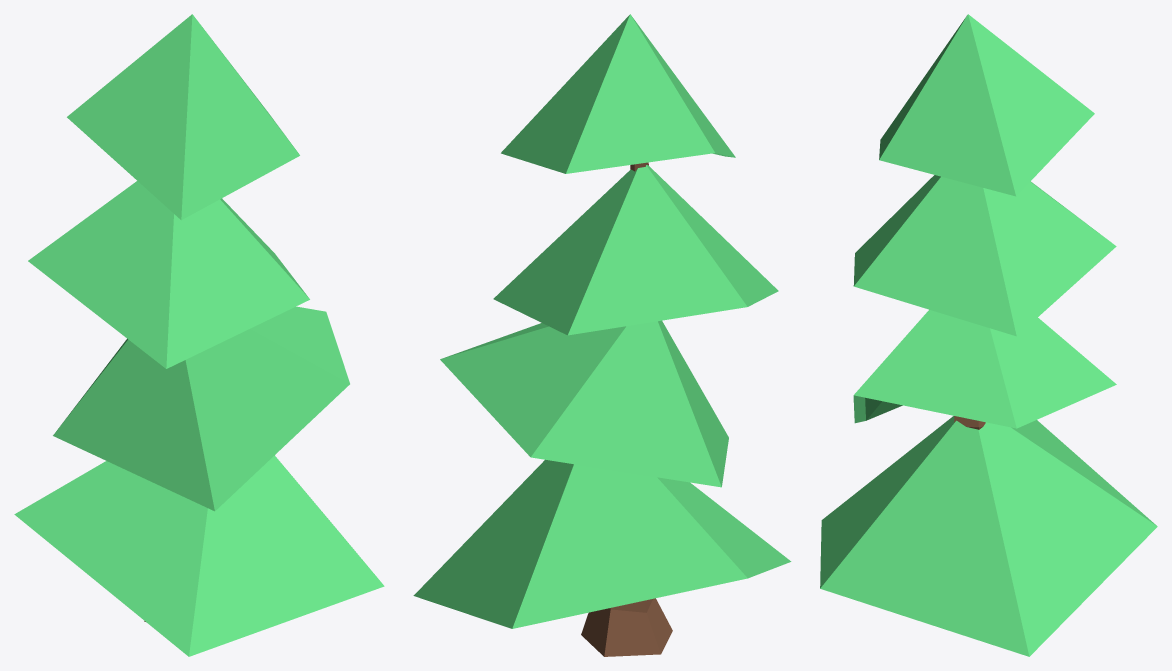
Rendered from fir_tree.fbx.
3 renders of one model, left to right at view 1: azimuth 30°, elevation 25°; view 2: azimuth 150°, elevation 25°; view 3: azimuth 270°, elevation 25°, orthographic. The views are drawn at different scales.
Visible parts, largest first — view 1: fir; view 2: fir; view 3: fir.
Boxes of the visible parts, left/top/right/bottom form: fir: left=14, top=14, right=384, bottom=656; fir: left=413, top=14, right=791, bottom=656; fir: left=820, top=14, right=1157, bottom=656.
Bounding box in the file's own units: 328 × 585 × 309.
